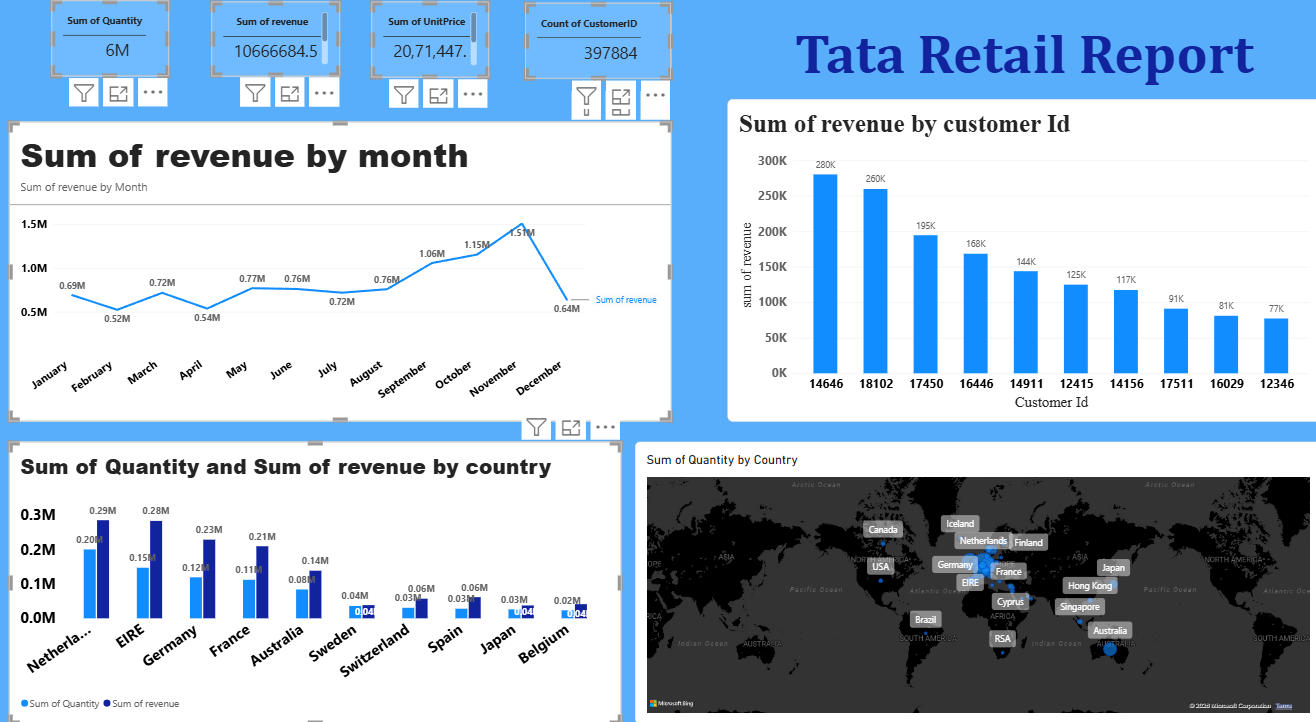

The dashboard page shown, as its layout file describes it:
{"tool":"powerbi","page":{"name":"Page 5","canvas":[1920,1080],"ordinal":4},"visuals":[{"type":"lineChart","title":"Sum of revenue by month","fields":{"Category":["Online Retail.InvoiceDate.Variation.Date Hierarchy.Month"],"Y":["Sum(Online Retail.revenue)"]},"box":[19.9,191.8,959.1,434.3],"z":0},{"type":"clusteredColumnChart","title":"Sum of Quantity and Sum of revenue by country","fields":{"Category":["Online Retail.Country"],"Y":["Sum(Online Retail.Quantity)","Sum(Online Retail.revenue)"]},"box":[19.9,655.1,886.7,410.8],"z":1000},{"type":"clusteredColumnChart","title":"Sum of revenue by customer  Id","fields":{"Category":["Online Retail.CustomerID"],"Y":["Sum(Online Retail.revenue)"]},"box":[1060.5,159.3,859.6,466.9],"z":2000},{"type":"map","fields":{"Category":["Online Retail.Country"],"Size":["Sum(Online Retail.Quantity)"]},"box":[926.5,655.1,993.5,410.8],"z":3000},{"type":"tableEx","fields":{"Values":["Sum(Online Retail.Quantity)"]},"box":[81.4,16.3,170.1,110.4],"z":3001},{"type":"tableEx","fields":{"Values":["Sum(Online Retail.revenue)"]},"box":[313.1,18.1,186.4,108.6],"z":3002},{"type":"tableEx","fields":{"Values":["Sum(Online Retail.UnitPrice)"]},"box":[544.7,18.1,170.1,110.4],"z":3003},{"type":"tableEx","fields":{"Values":["CountNonNull(Online Retail.CustomerID)"]},"box":[767.3,19.9,211.7,110.4],"z":3004},{"type":"textbox","box":[1060.5,45.2,859.6,95.9],"z":3005}]}

Visuals, with their boxes in screenshot pixels (x1, y1, x2, y2), scaled from the page's 1920x1080 canvas onto the 1316x722 screenshot:
"Sum of revenue by month" lineChart: pyautogui.locateOnScreen(14, 128, 671, 419)
"Sum of Quantity and Sum of revenue by country" clusteredColumnChart: pyautogui.locateOnScreen(14, 438, 621, 713)
"Sum of revenue by customer  Id" clusteredColumnChart: pyautogui.locateOnScreen(727, 106, 1315, 419)
map - Online Retail.Country x Sum(Online Retail.Quantity): pyautogui.locateOnScreen(635, 438, 1315, 713)
tableEx - Sum(Online Retail.Quantity): pyautogui.locateOnScreen(56, 11, 172, 85)
tableEx - Sum(Online Retail.revenue): pyautogui.locateOnScreen(215, 12, 342, 85)
tableEx - Sum(Online Retail.UnitPrice): pyautogui.locateOnScreen(373, 12, 490, 86)
tableEx - CountNonNull(Online Retail.CustomerID): pyautogui.locateOnScreen(526, 13, 671, 87)
textbox: pyautogui.locateOnScreen(727, 30, 1315, 94)
